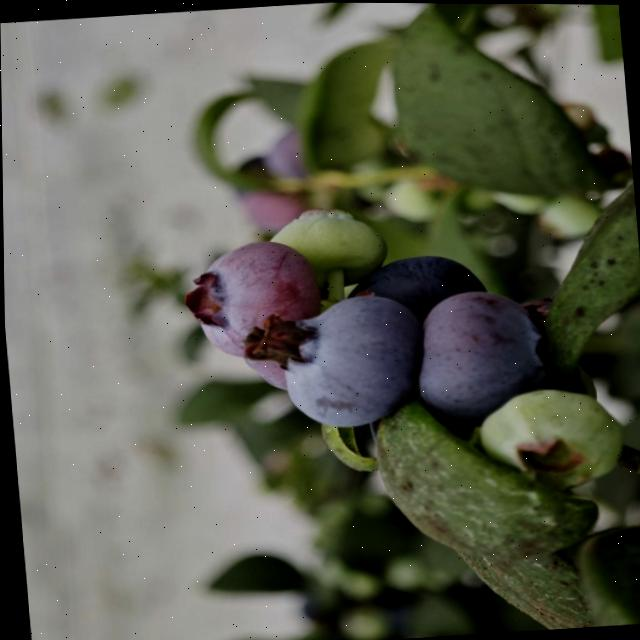RipeBlueBerry: (273, 290, 423, 425)
Semi-RipeBlueBerry: (411, 283, 548, 422), (182, 235, 323, 360)
UnripeBlueBerry: (474, 384, 626, 492)
